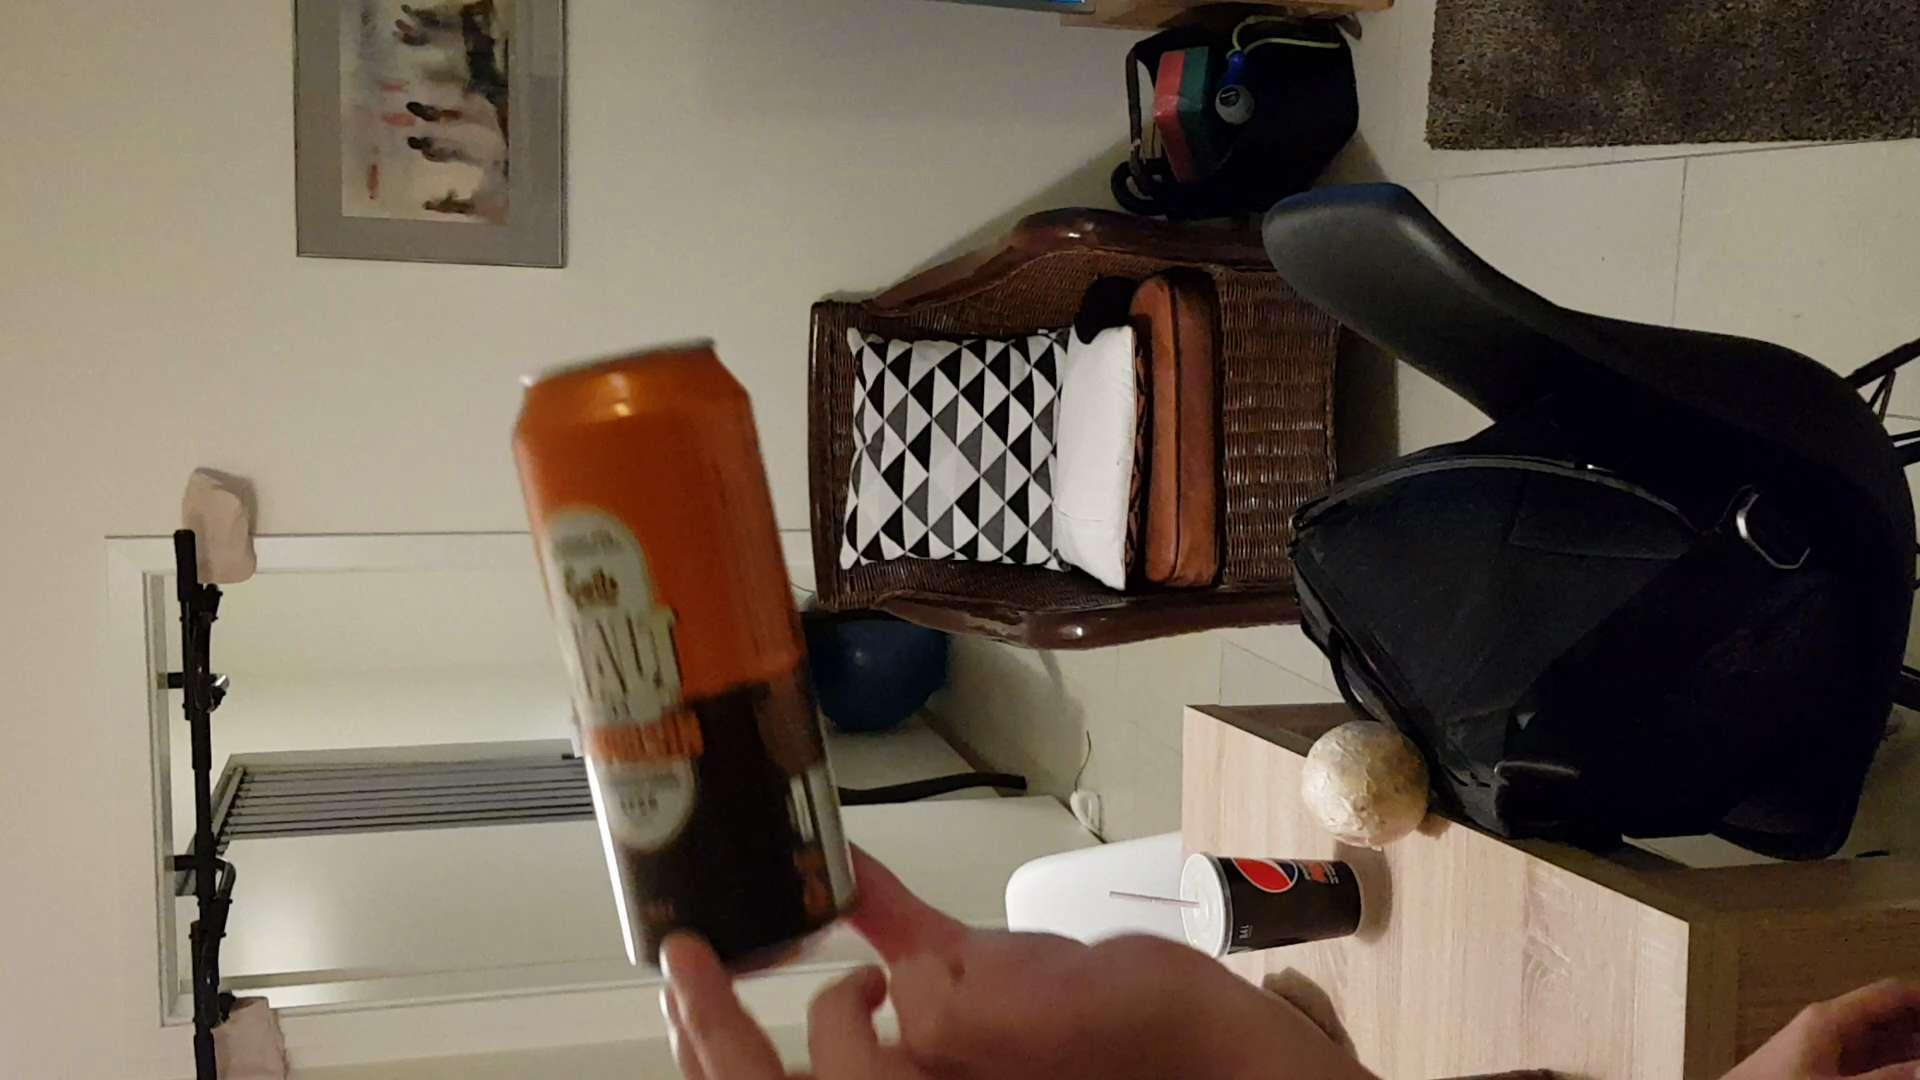Can: (506, 334, 864, 985)
